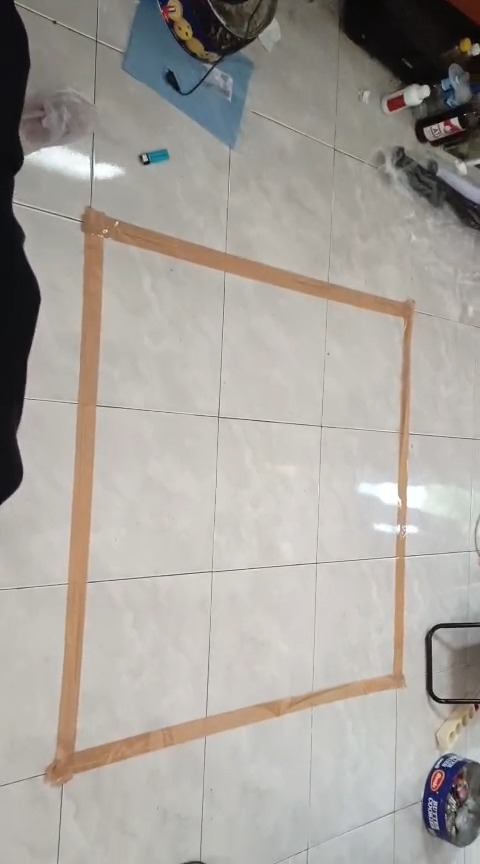floor marking: (46, 208, 413, 785)
